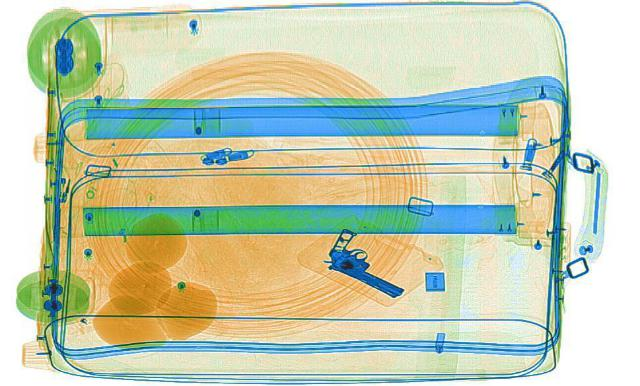Gun: (303, 228, 435, 295)
